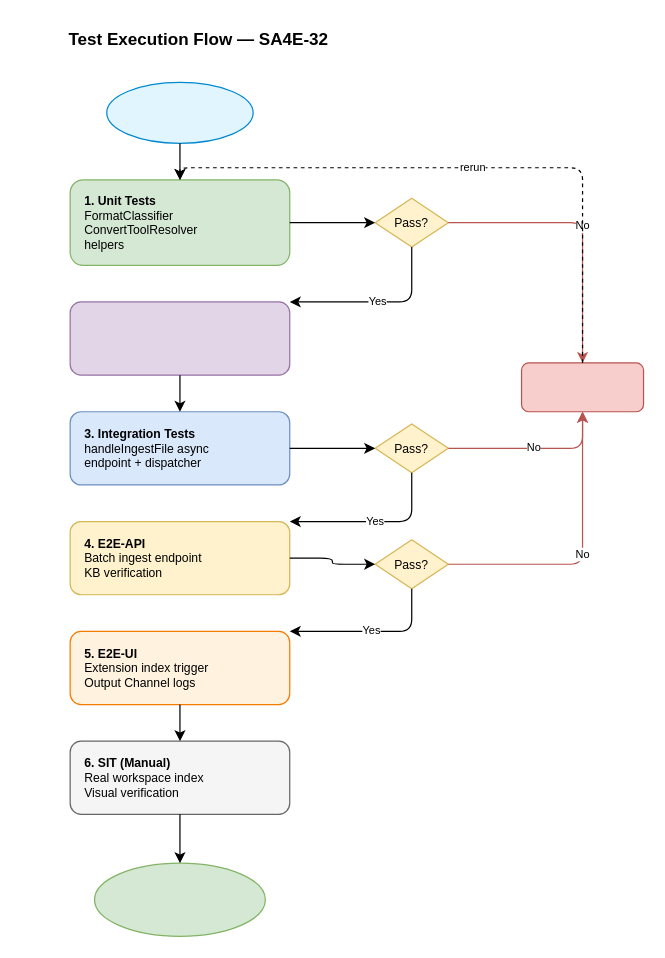
Some shapes in this 665 by 958 pixel diagram are drawn without their labels. Here are the shapes that lost their labels. From the top down, the centre of each, then its label:
At [179,112]: "Code Commit".
At [179,338]: "2. PBT Invariant checks (random file inputs)".
At [582,387]: "Fix Code + Rerun".
At [179,899]: "All Tests Pass Ready for UAT".
